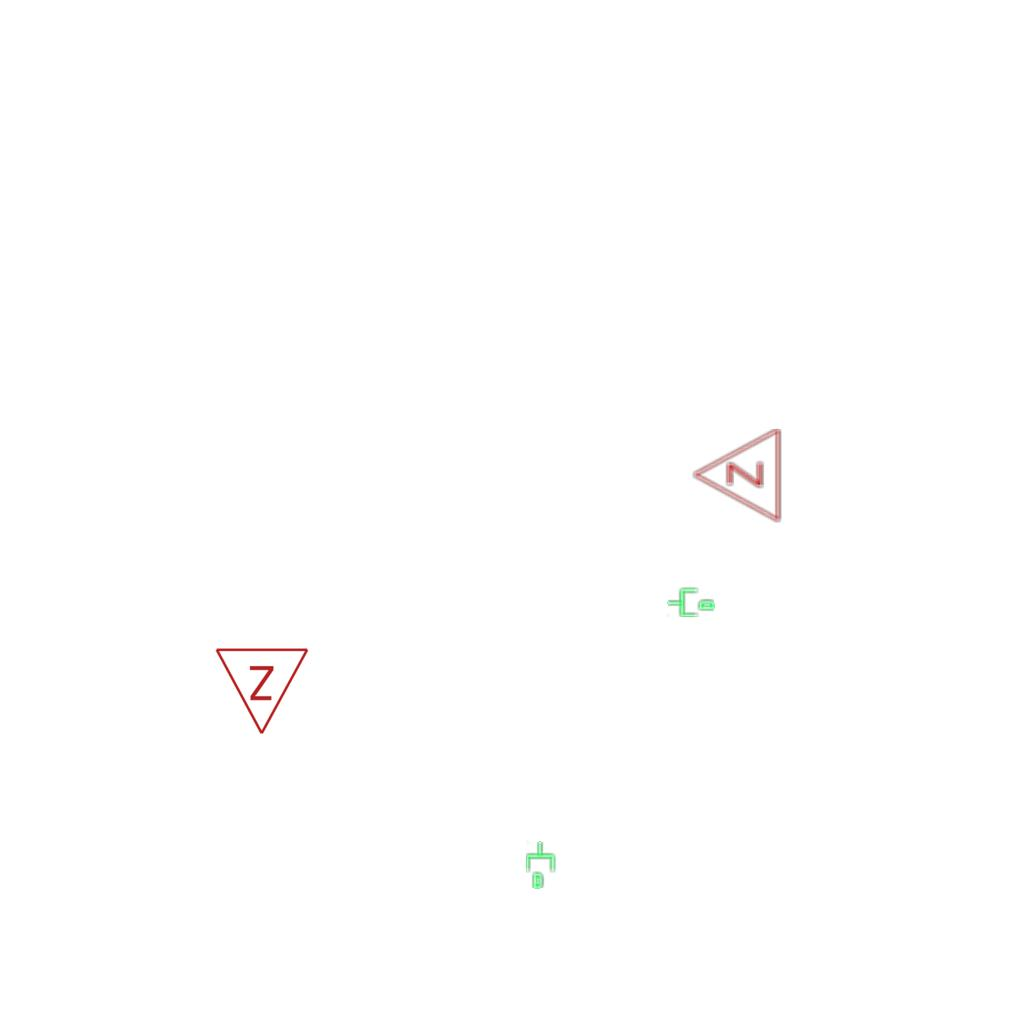Datenanschluss_einfach: (524, 840, 558, 890), (666, 585, 716, 619)
Zimmersignalleuchte: (687, 427, 787, 525), (214, 641, 312, 741)
